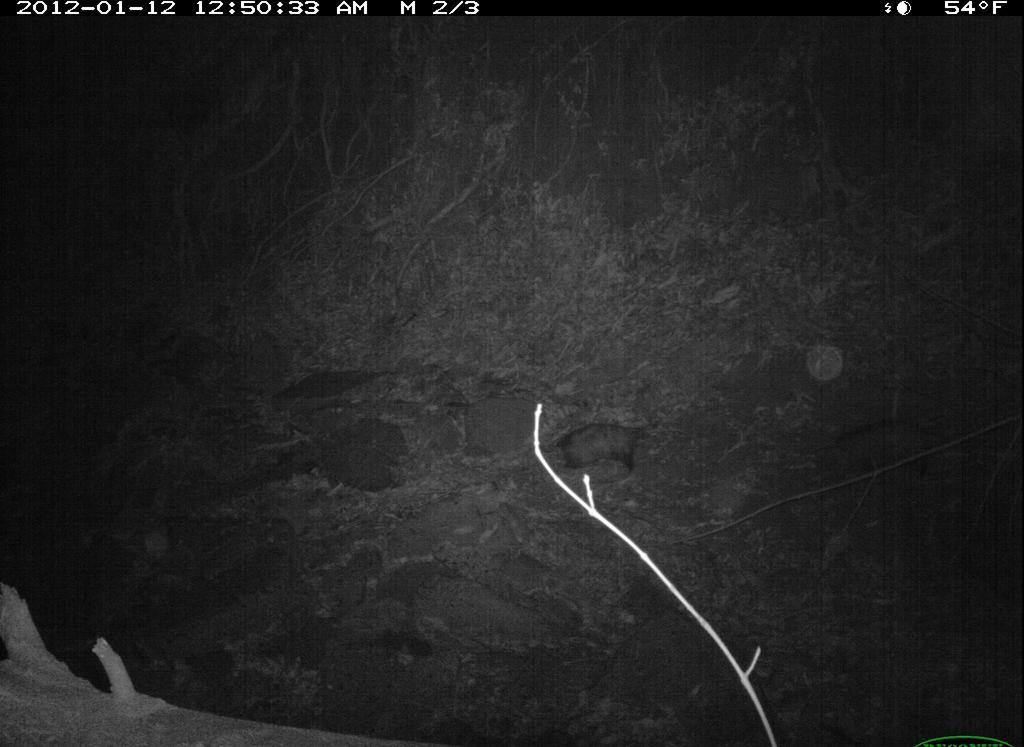opossum: (539, 406, 665, 493)
